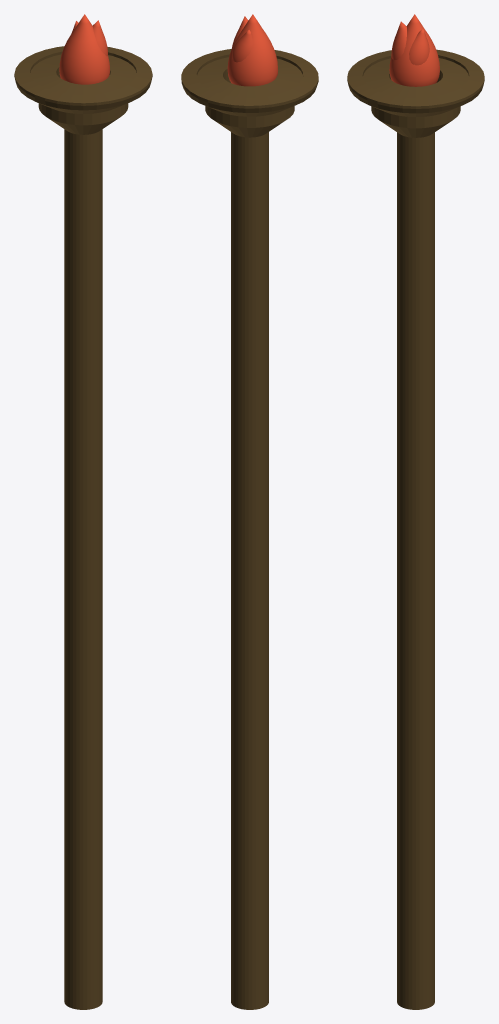
File: torch-01.fbx
3 views of the same model, side by side, from view 1: azimuth 90°, elevation 25°; view 2: azimuth 210°, elevation 25°; view 3: azimuth 270°, elevation 25° (orthographic).
Parts seen in each view (by area): view 1: torch-01; view 2: torch-01; view 3: torch-01.
Part boxes in pixels (left/top/right/bottom): torch-01: left=14, top=14, right=152, bottom=1009; torch-01: left=181, top=14, right=318, bottom=1009; torch-01: left=347, top=14, right=484, bottom=1009.
Size of the model in its own units: 11.53 by 91.16 by 11.53.
